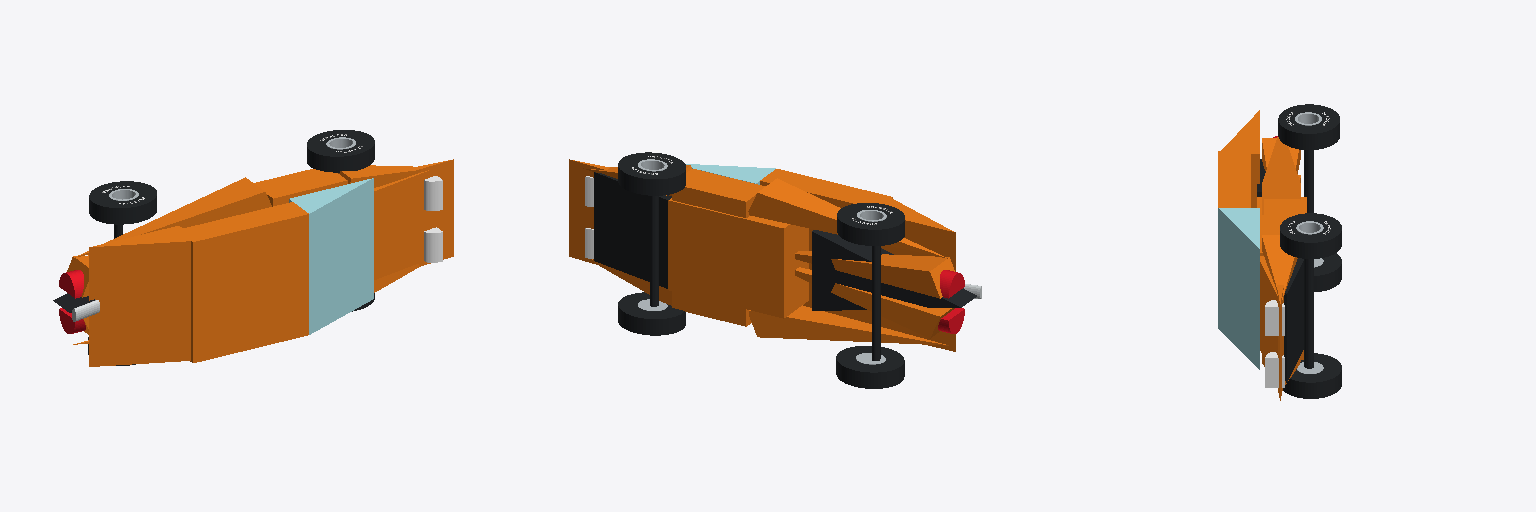
Rendered from tinker.obj.
The picture shows the model from 3 angles: view 1: azimuth 30°, elevation 25°; view 2: azimuth 150°, elevation 25°; view 3: azimuth 270°, elevation 25°; orthographic projection.
Parts seen in each view (by area): view 1: obj_0; view 2: obj_0; view 3: obj_0.
Boxes of the visible parts, x1=… form: obj_0: x1=53, y1=130, x2=453, y2=366; obj_0: x1=569, y1=152, x2=981, y2=388; obj_0: x1=1218, y1=104, x2=1341, y2=400.
Size of the model in its own units: 281 by 108 by 76.